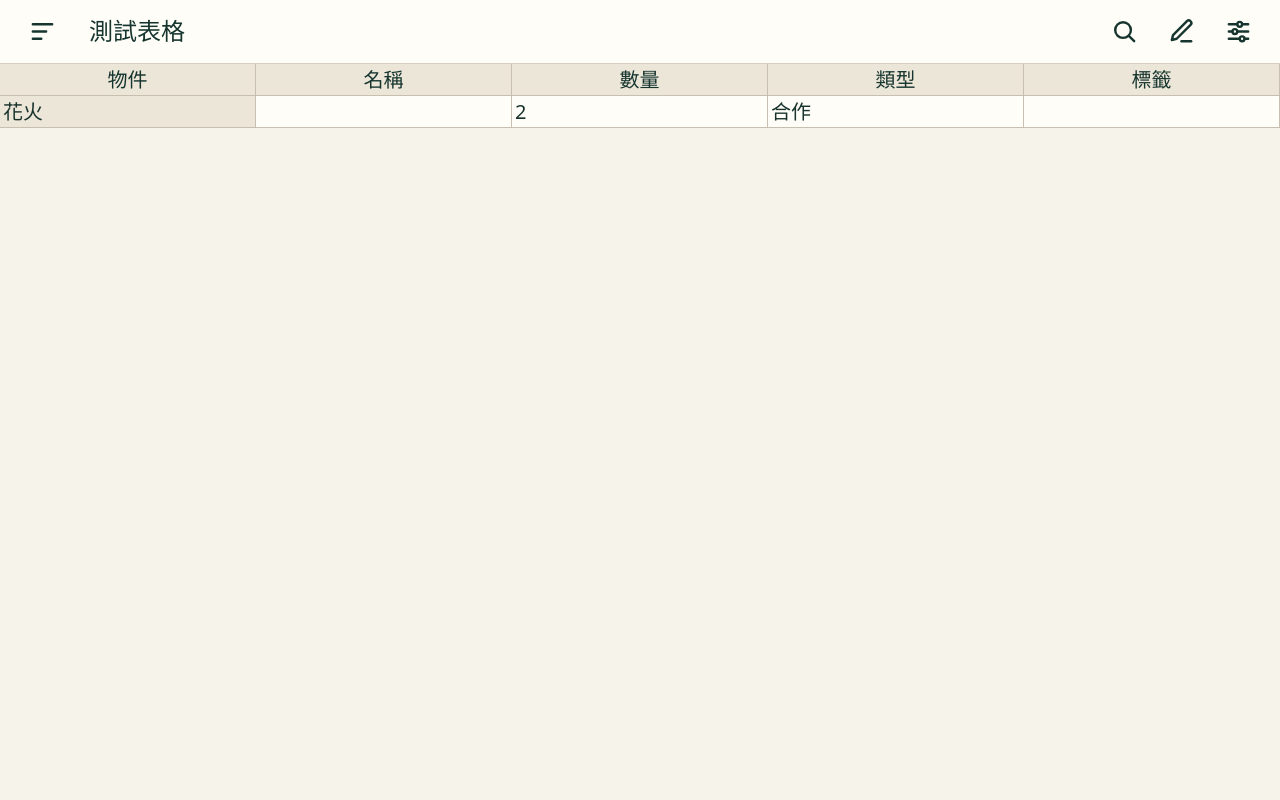
Test: WorkspacePage › does not save a type conversion when the column settings draft is cancelled by browser back
The image size is (1280, 800).
Step 1. Click the column heading "數量" → (640,80), box [512,64,768,96]
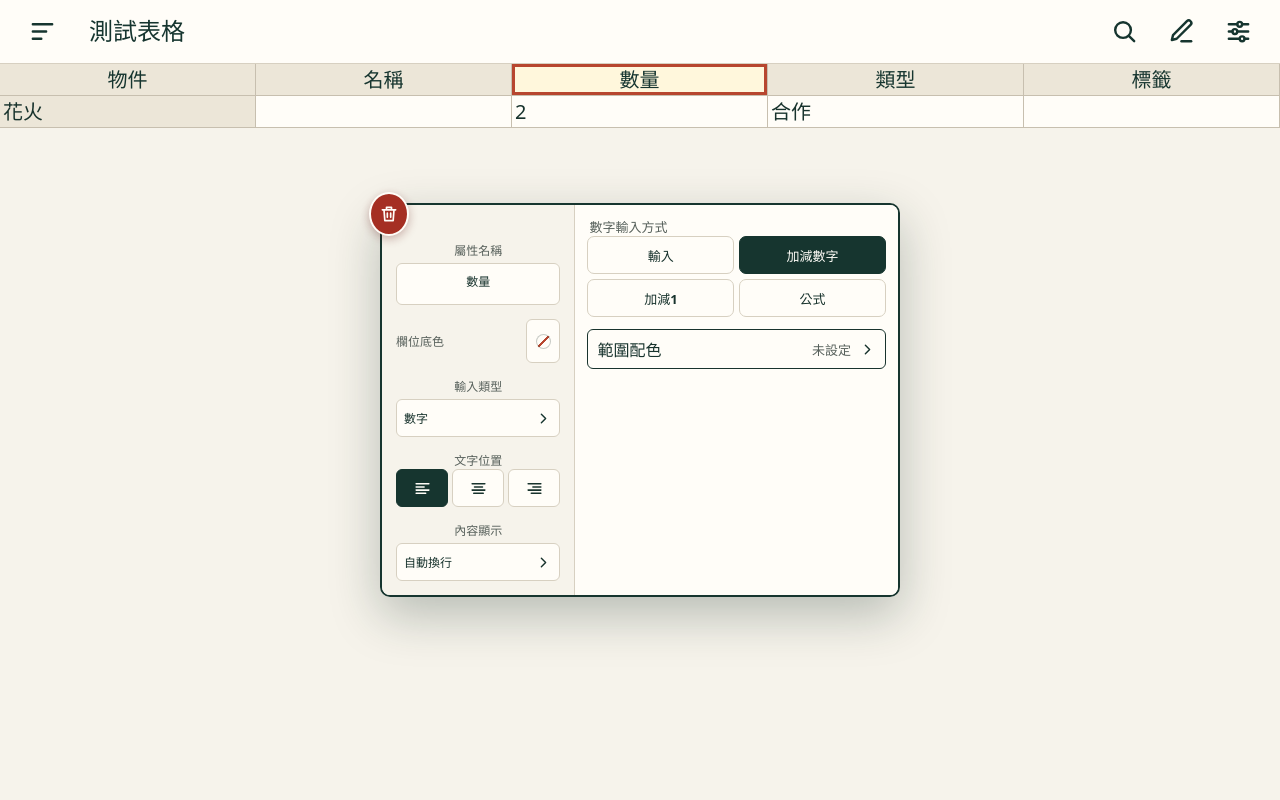
Step 2. Click the dropdown named "輸入類型" → (478,418), box [396,399,560,437]
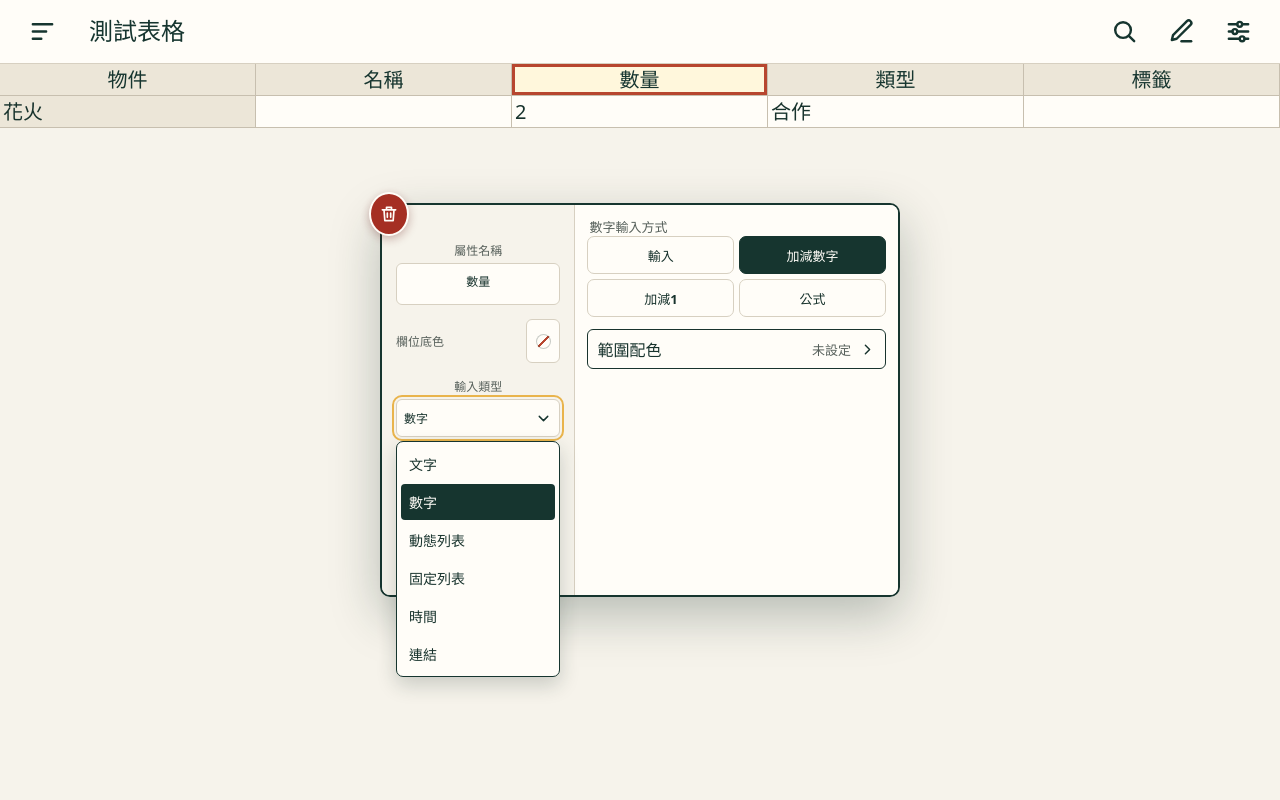
Step 3. Click the option "動態列表" → (478,540), box [401,522,556,558]
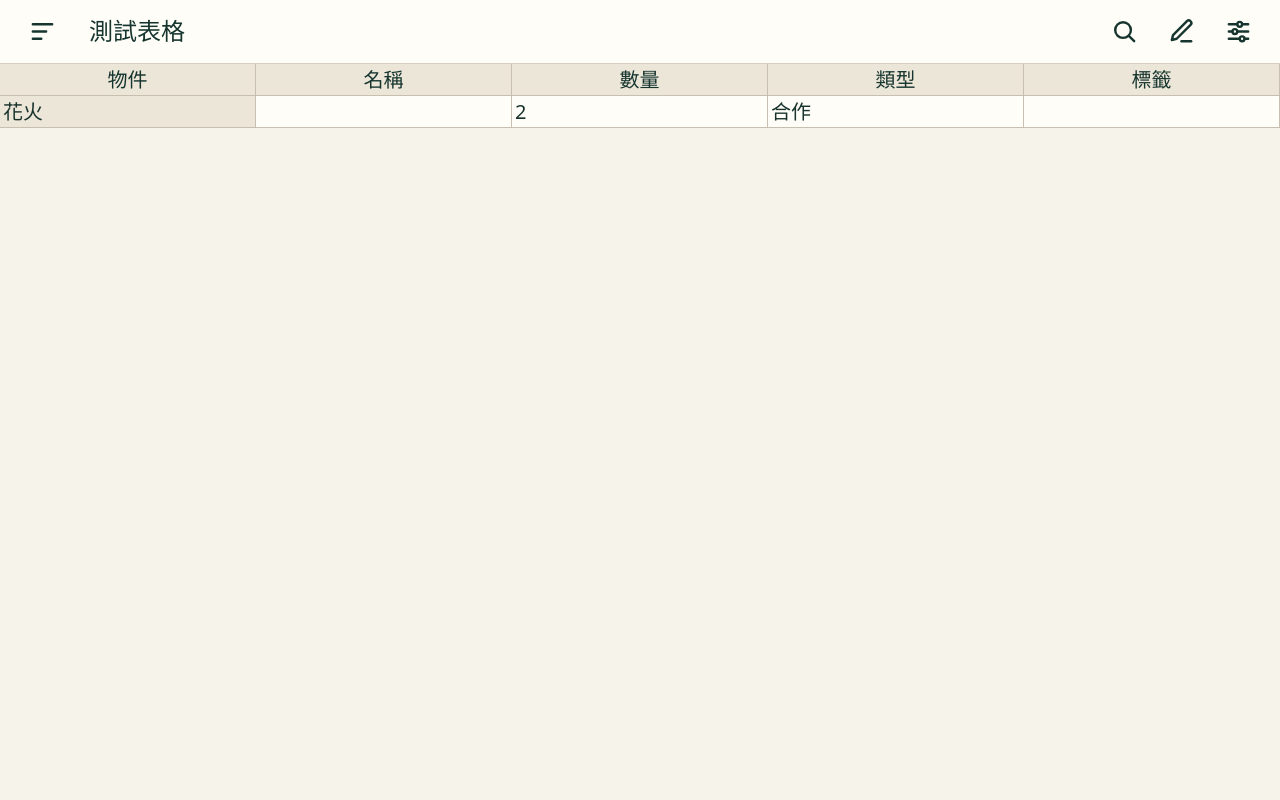
Check: the cell named "花火，數量：2" is shown, box [512,96,768,128]
Check: the dialog is gone
Step 4. Click the column heading "數量" → (640,80), box [512,64,768,96]
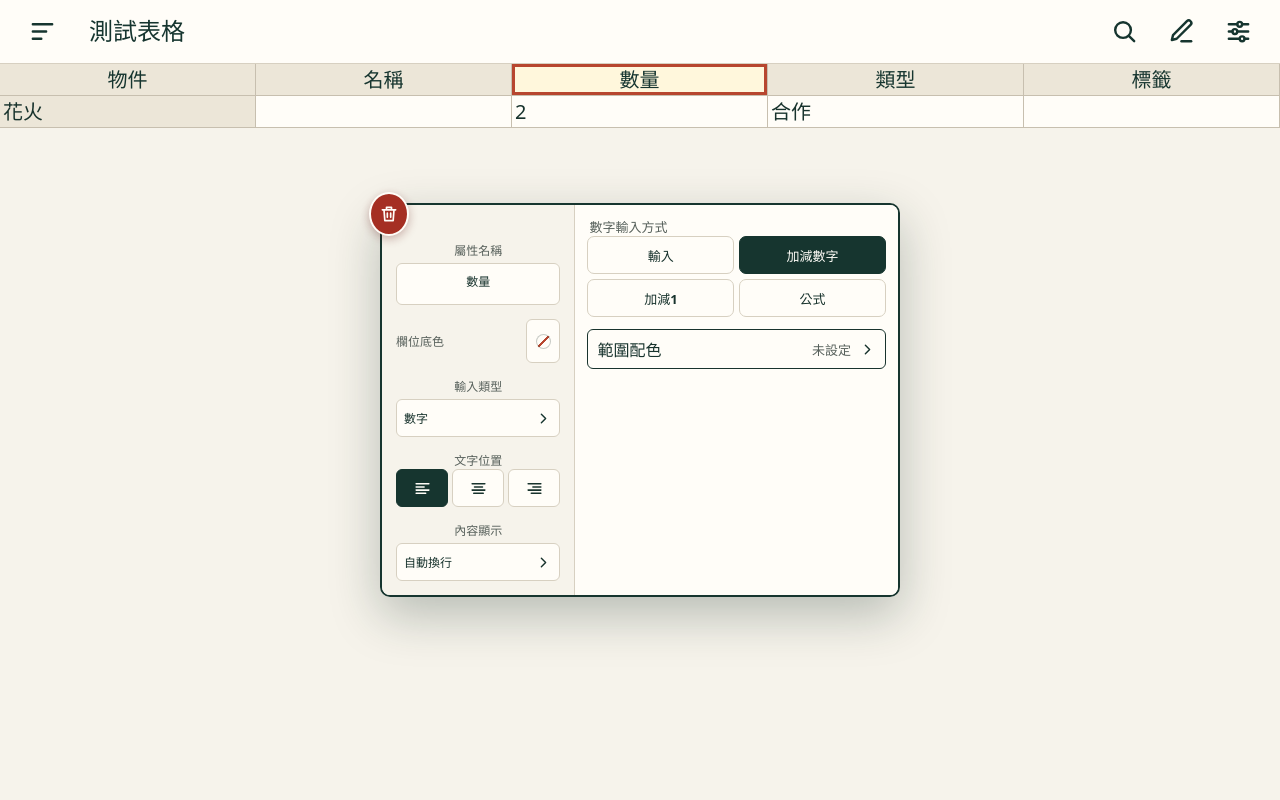
Check: the cell named "花火，數量：2" is shown, box [512,96,768,128]
Check: the dropdown named "輸入類型" reads "數字", box [396,399,560,437]
